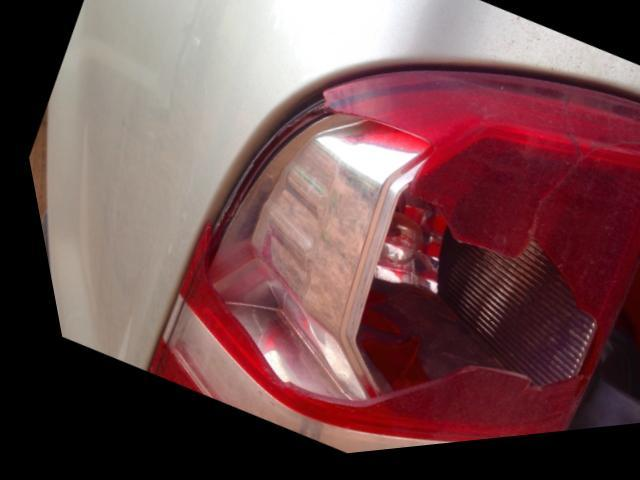lamp broken: (131, 72, 640, 459)
